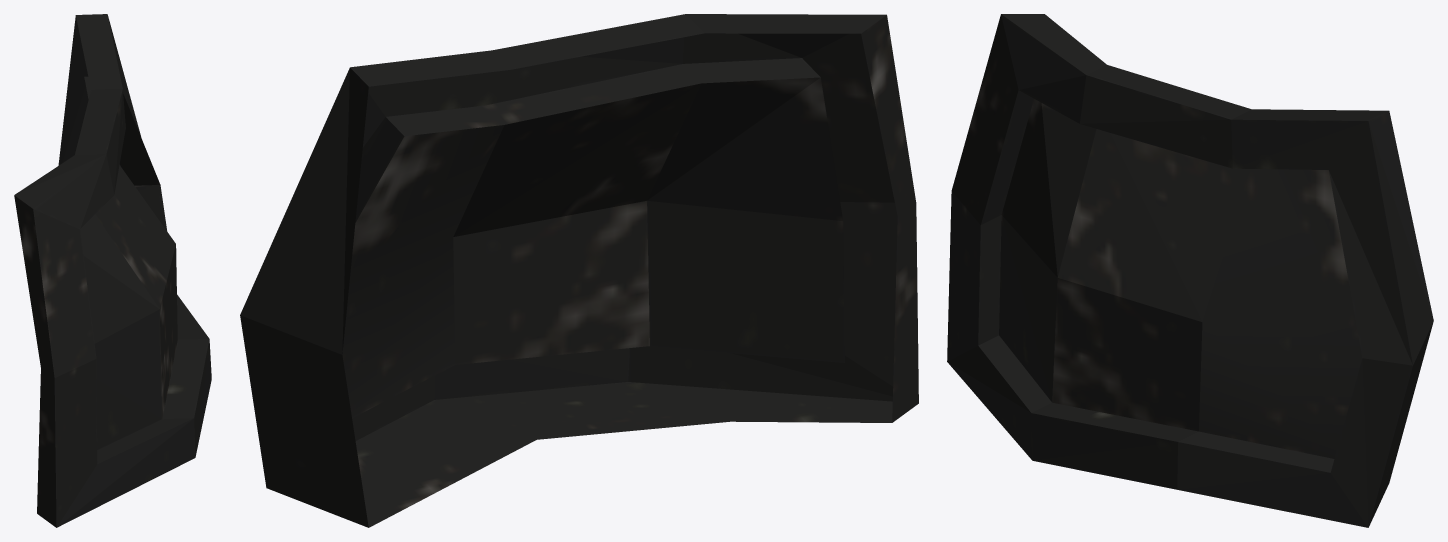
The model's file is LHdoor.FBX.
The picture shows the model from 3 angles, left to right: view 1: azimuth 30°, elevation 25°; view 2: azimuth 150°, elevation 25°; view 3: azimuth 270°, elevation 25°; orthographic projection. The views are drawn at different scales.
Visible parts, largest first — view 1: LHdoor; view 2: LHdoor; view 3: LHdoor.
Boxes of the visible parts, box(x1,y1,x2,y2) form: LHdoor: box(14, 14, 211, 527); LHdoor: box(240, 14, 918, 527); LHdoor: box(947, 14, 1433, 527).
Bounding box in the file's own units: 44.99 × 55.76 × 47.38.
